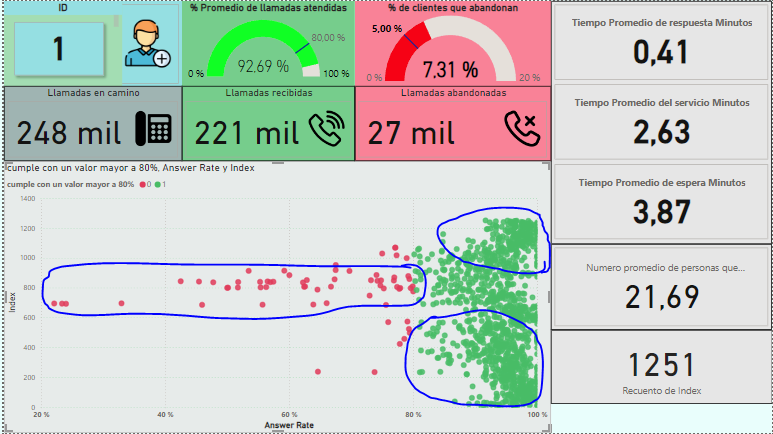

Layout of this report page (visuals, bound fields, positions):
{"tool":"powerbi","page":{"name":"Página 3","canvas":[1280,720],"ordinal":1},"visuals":[{"type":"cardVisual","fields":{"Data":["Count(Call Center Data.Index)"]},"box":[0,0,296.7,143.3],"z":0},{"type":"gauge","fields":{"Y":["Call Center Data.% Promedio de llamadas atendidas"]},"box":[296.7,0,288.3,143.3],"z":1000},{"type":"gauge","fields":{"Y":["Call Center Data.% de clientes que abandonan"]},"box":[585,0,326.7,143.3],"z":2000},{"type":"scatterChart","fields":{"Y":["Call Center Data.Index"],"X":["Call Center Data.Answer Rate"],"Series":["Call Center Data.cumple con un valor mayor a 80%"]},"box":[0,266.7,911.7,453.3],"z":3000},{"type":"cardVisual","fields":{"Data":["Call Center Data.promedio de personas que abandonan"]},"box":[911.7,405,368.3,143.3],"z":4000},{"type":"cardVisual","fields":{"Data":["Avg(Call Center Data.Tiempo de respuesta)","Avg(Call Center Data.Tiempo de habla)","Avg(Call Center Data.Tiempo de espera)"]},"box":[911.7,0,368.3,405],"z":5000},{"type":"cardVisual","title":"Llamadas recibidas","fields":{"Data":["Sum(Call Center Data.Answered Calls)"]},"box":[296.7,141.7,288.3,125],"z":6000},{"type":"advancedSlicerVisual","title":"ID ","fields":{"Values":["Call Center Data.Index"]},"box":[0,0,196.7,141.7],"z":7000},{"type":"cardVisual","title":"Llamadas en camino","fields":{"Data":["Sum(Call Center Data.Incoming Calls)"]},"box":[0,141.7,296.7,125],"z":8000},{"type":"cardVisual","title":"Llamadas abandonadas","fields":{"Data":["Sum(Call Center Data.Abandoned Calls)"]},"box":[585,141.7,326.7,125],"z":9000},{"type":"card","fields":{"Values":["Count(Call Center Data.Index)"]},"box":[911.4,548.6,368.6,122.9],"z":9001}]}

Visuals, with their boxes in screenshot pixels (x1, y1, x2, y2), scaled from the page's 1280x720 canvas onto the 773x434 screenshot:
cardVisual - Count(Call Center Data.Index): x1=0 y1=0 x2=179 y2=86
gauge - Call Center Data.% Promedio de llamadas atendidas: x1=179 y1=0 x2=353 y2=86
gauge - Call Center Data.% de clientes que abandonan: x1=353 y1=0 x2=551 y2=86
scatterChart - Call Center Data.Index x Call Center Data.Answer Rate: x1=0 y1=161 x2=551 y2=433
cardVisual - Call Center Data.promedio de personas que abandonan: x1=551 y1=244 x2=772 y2=331
cardVisual - Avg(Call Center Data.Tiempo de respuesta) x Avg(Call Center Data.Tiempo de habla): x1=551 y1=0 x2=772 y2=244
"Llamadas recibidas" cardVisual: x1=179 y1=85 x2=353 y2=161
"ID " advancedSlicerVisual: x1=0 y1=0 x2=119 y2=85
"Llamadas en camino" cardVisual: x1=0 y1=85 x2=179 y2=161
"Llamadas abandonadas" cardVisual: x1=353 y1=85 x2=551 y2=161
card - Count(Call Center Data.Index): x1=550 y1=331 x2=772 y2=405
